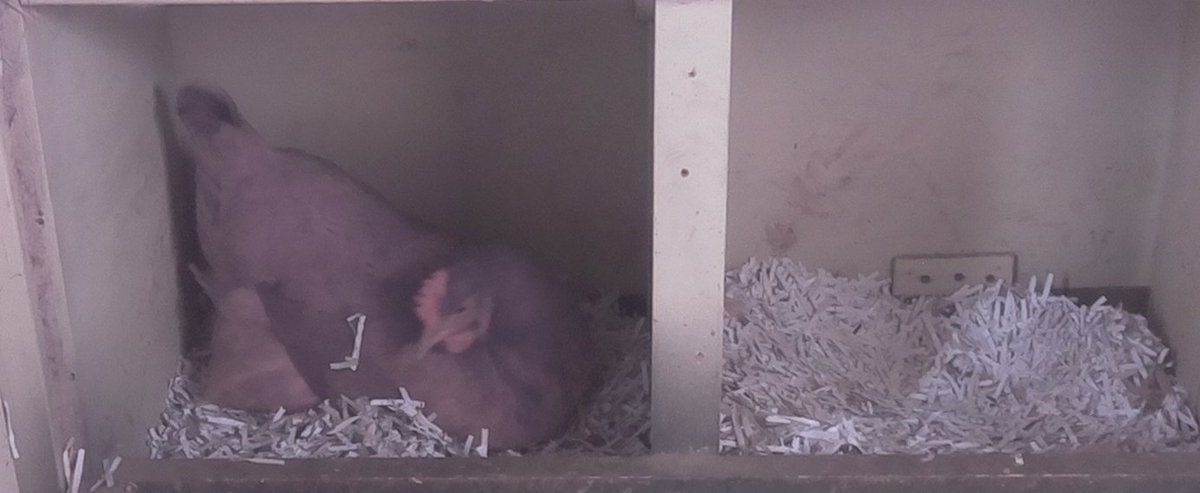hen: (169, 99, 609, 454)
